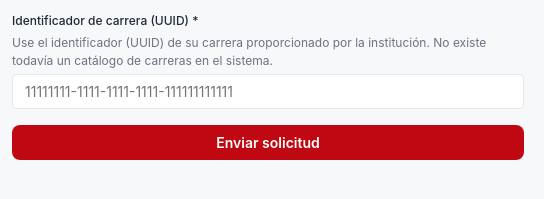
NuevaSolicitudForm › no envía con el campo vacío y enfoca el campo
Click the button "Enviar solicitud": (268, 142) [12,125,524,160]
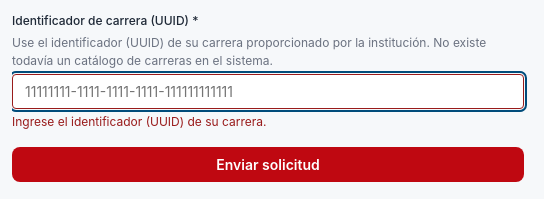
Result: the text "Ingrese el identificador (UUID) de su carrera." is shown at [12,114,266,129]
